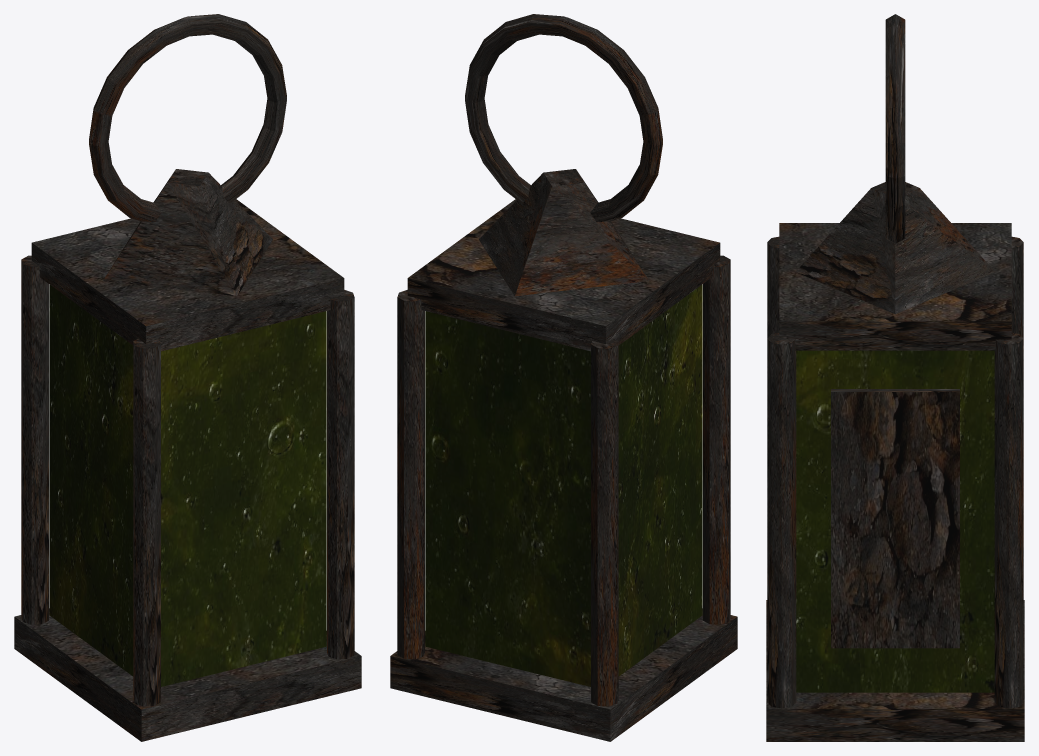
Rendered from lantern-v01-photo.glb.
3 renders of one model, left to right at view 1: azimuth 30°, elevation 25°; view 2: azimuth 150°, elevation 25°; view 3: azimuth 270°, elevation 25°, orthographic.
Visible parts, largest first — view 1: lantern; view 2: lantern; view 3: lantern.
Boxes of the visible parts, x1,y1,x2,y2 form: lantern: (14,14,361,741); lantern: (390,14,737,741); lantern: (766,14,1024,741).
Bounding box in the file's own units: 0.32 × 0.9065 × 0.32.
2 materials, 2 textured.
